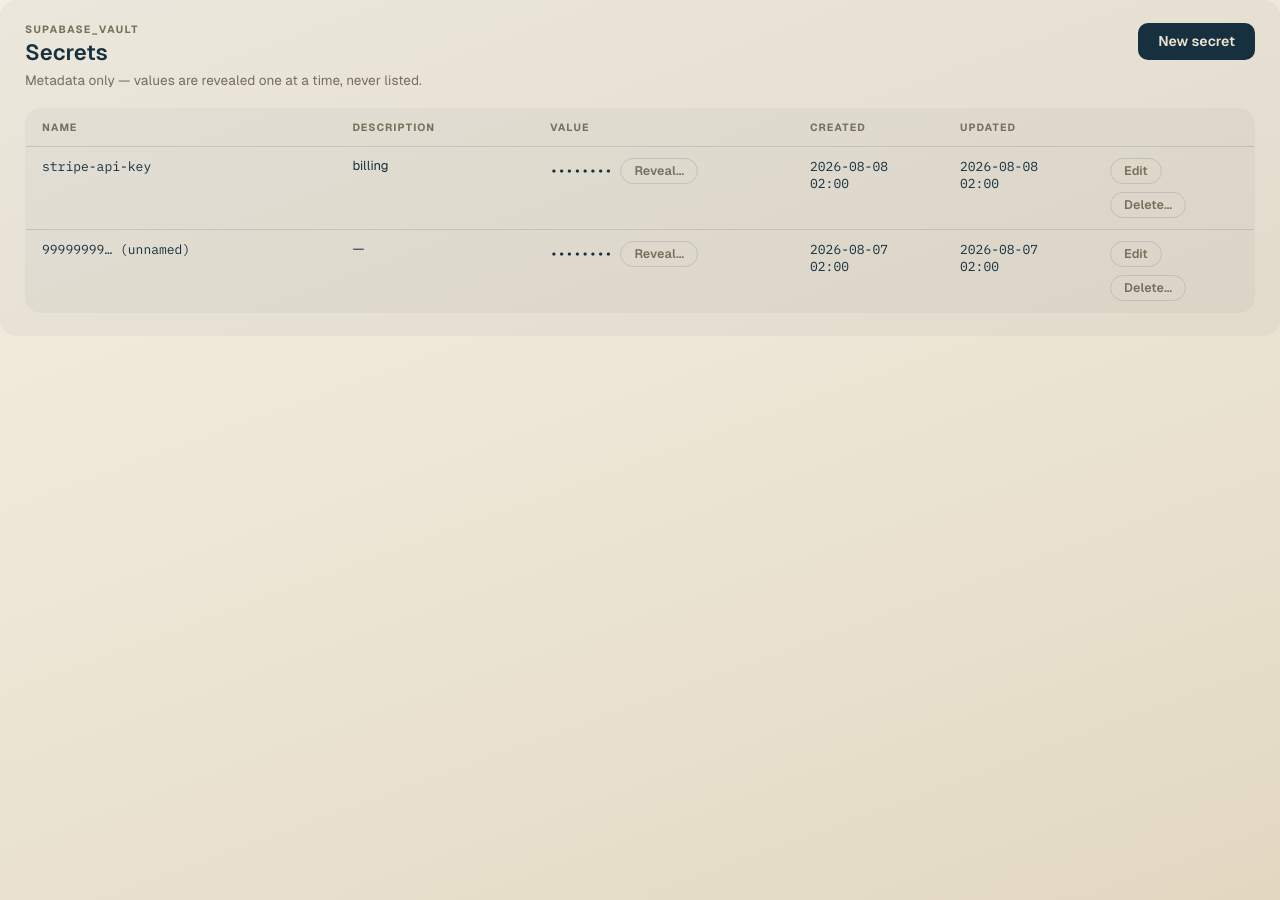
VaultClient › create dialog refuses an empty value without sending anything
The image size is (1280, 900).
Click the button "New secret" at (1197, 42), box [1138,23,1255,60]
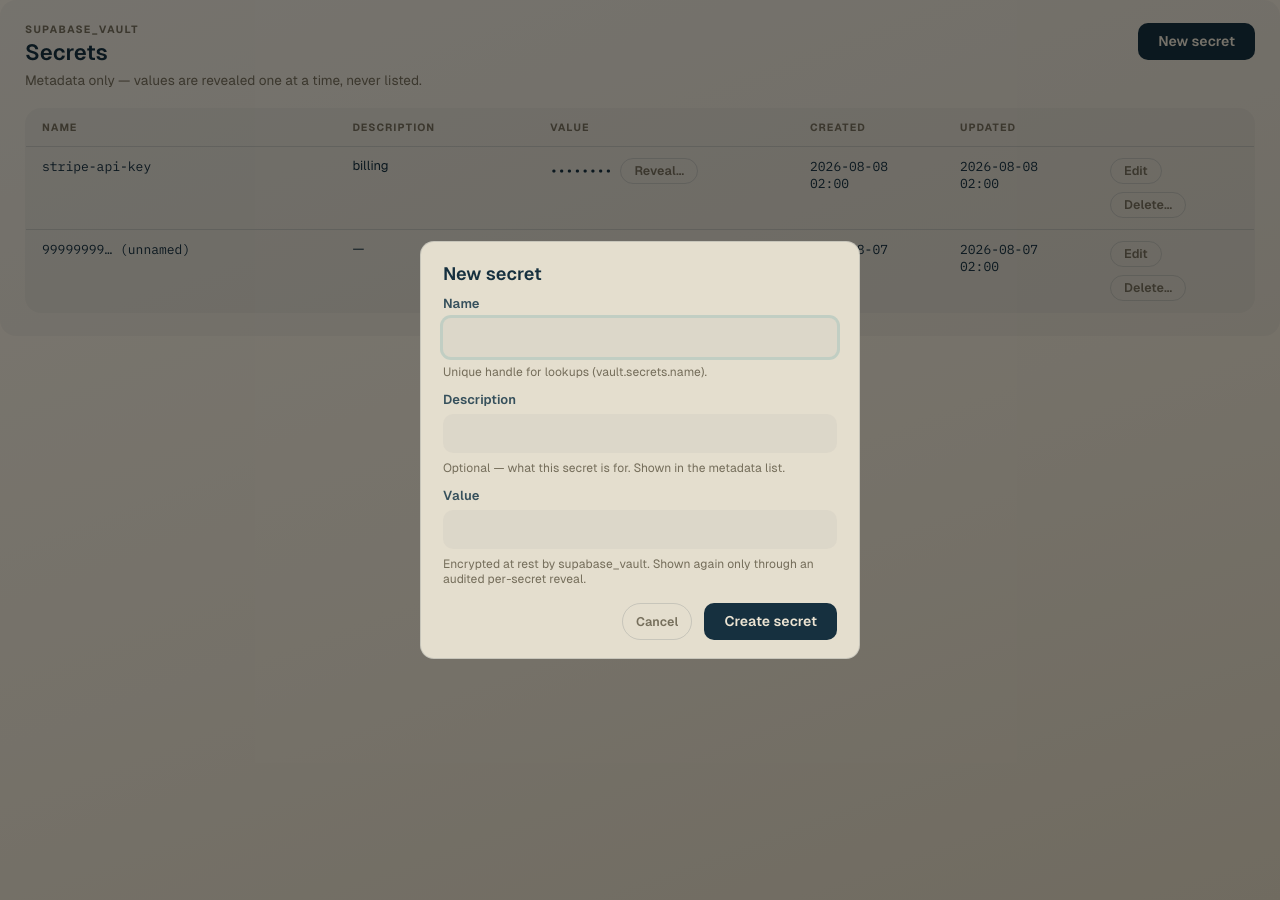
Type "new-key" into the field labelled "Name" at (640, 338), box [443,318,837,357]
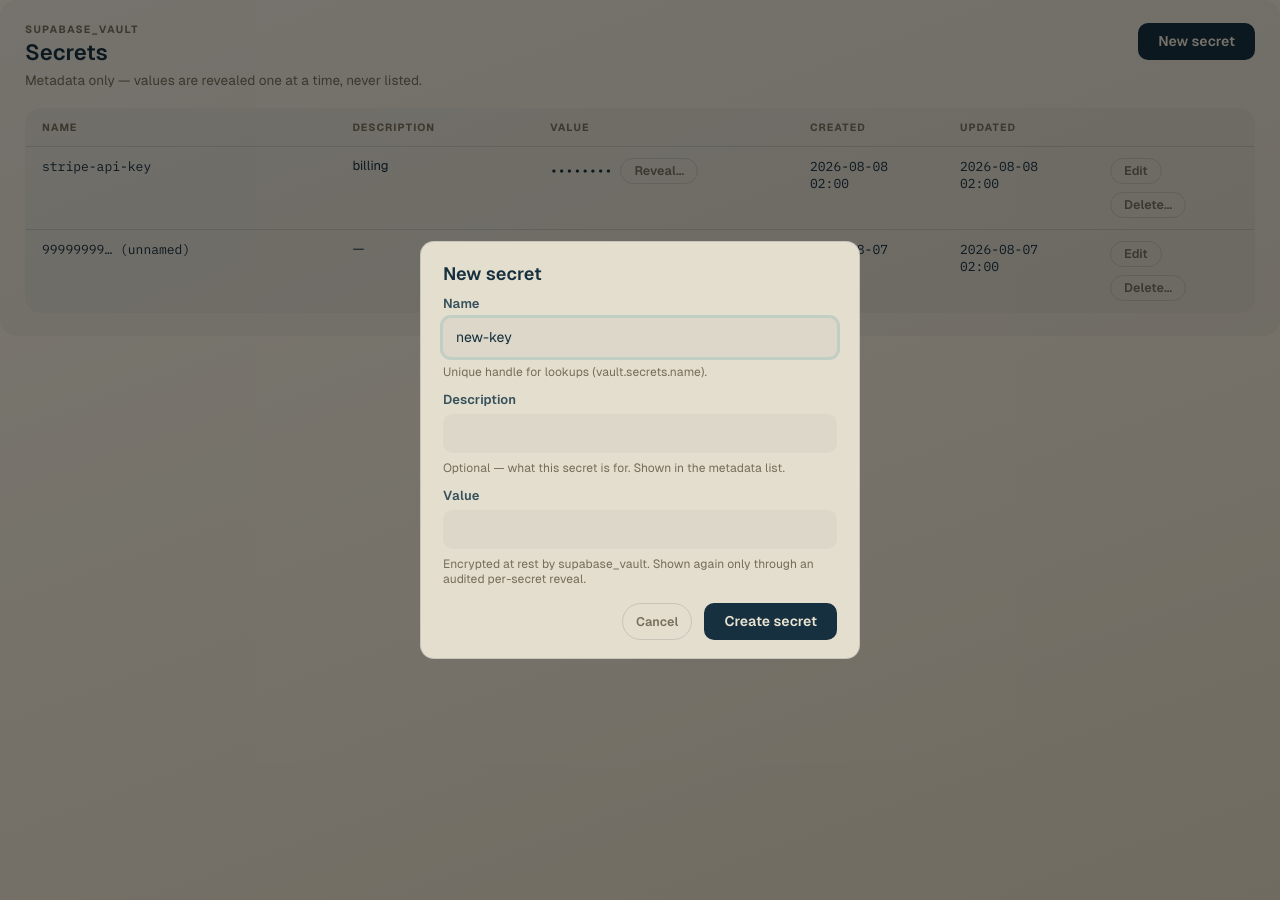
Click the button "Create secret" at (771, 622), box [704,603,837,640]
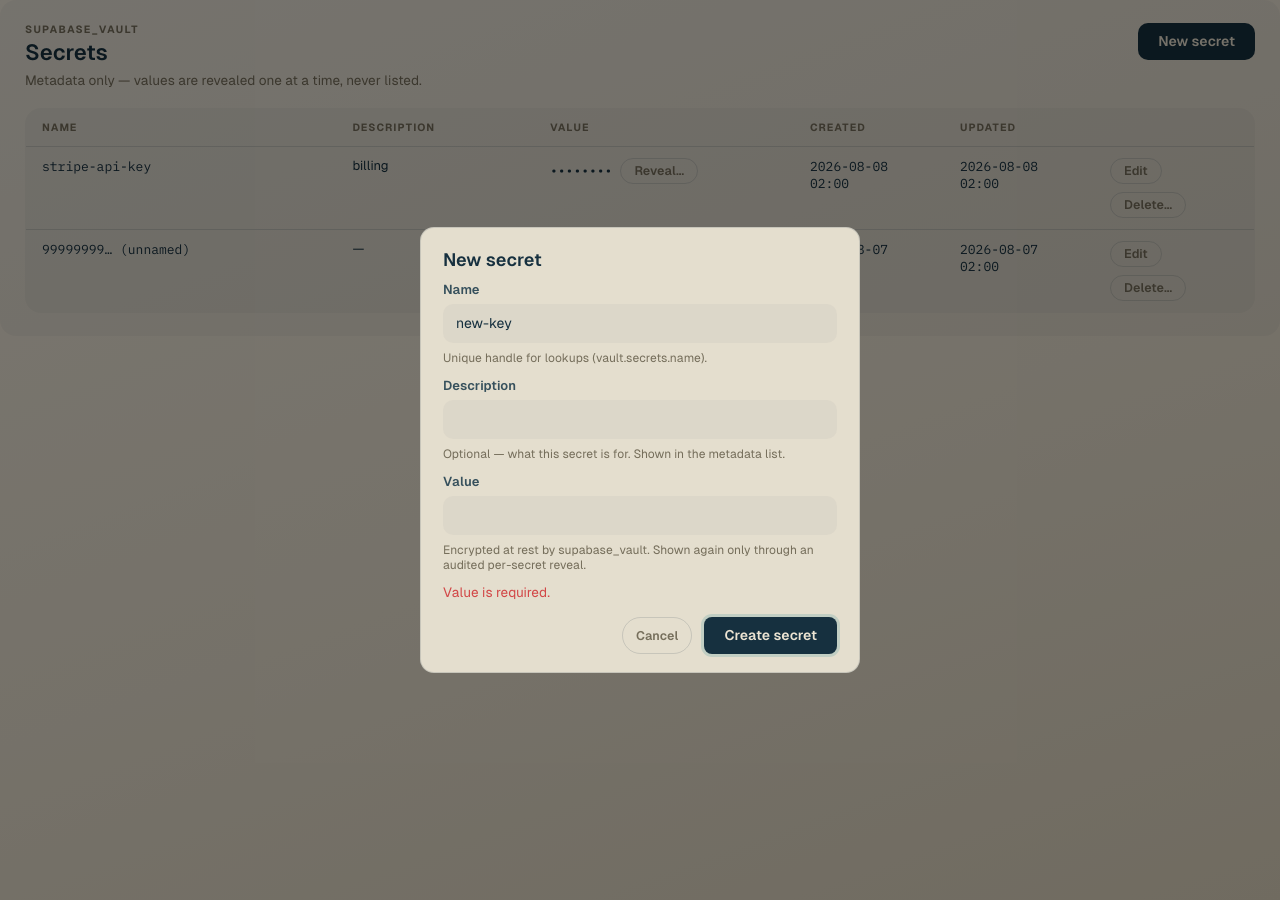
Result: the message shows "Value is required" at [443,585,550,600]
